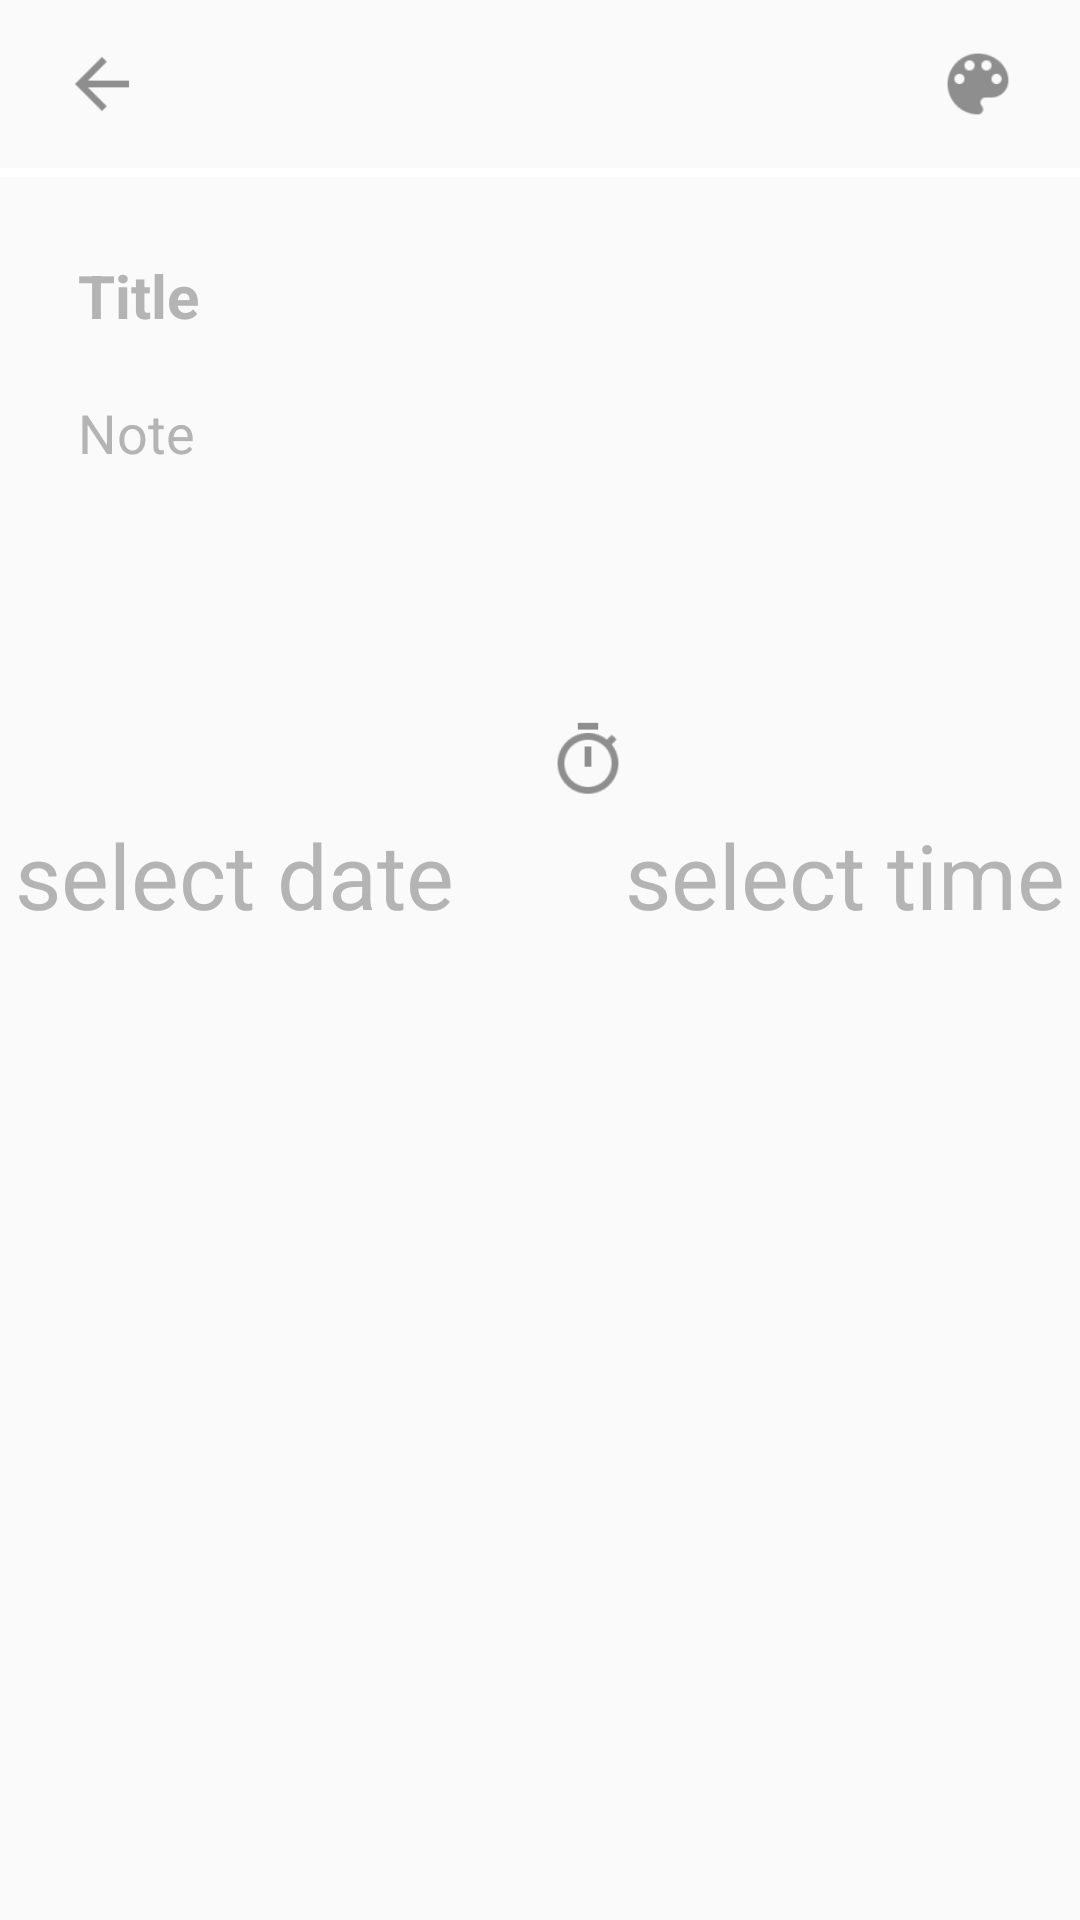

Icons on this 1080w x 1920h Android screen, each with the point to tap as (x=x, y=y):
back: (x=102, y=84)
palette: (x=978, y=84)
timer: (x=588, y=758)
